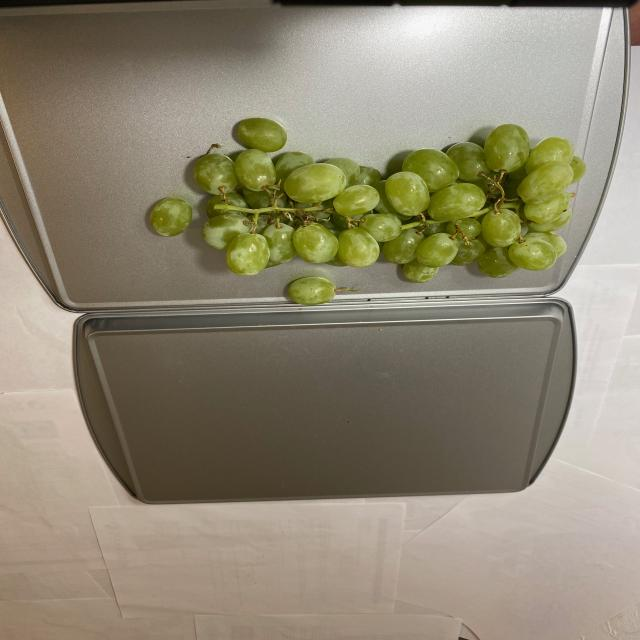Grapes: (147, 119, 578, 301)
